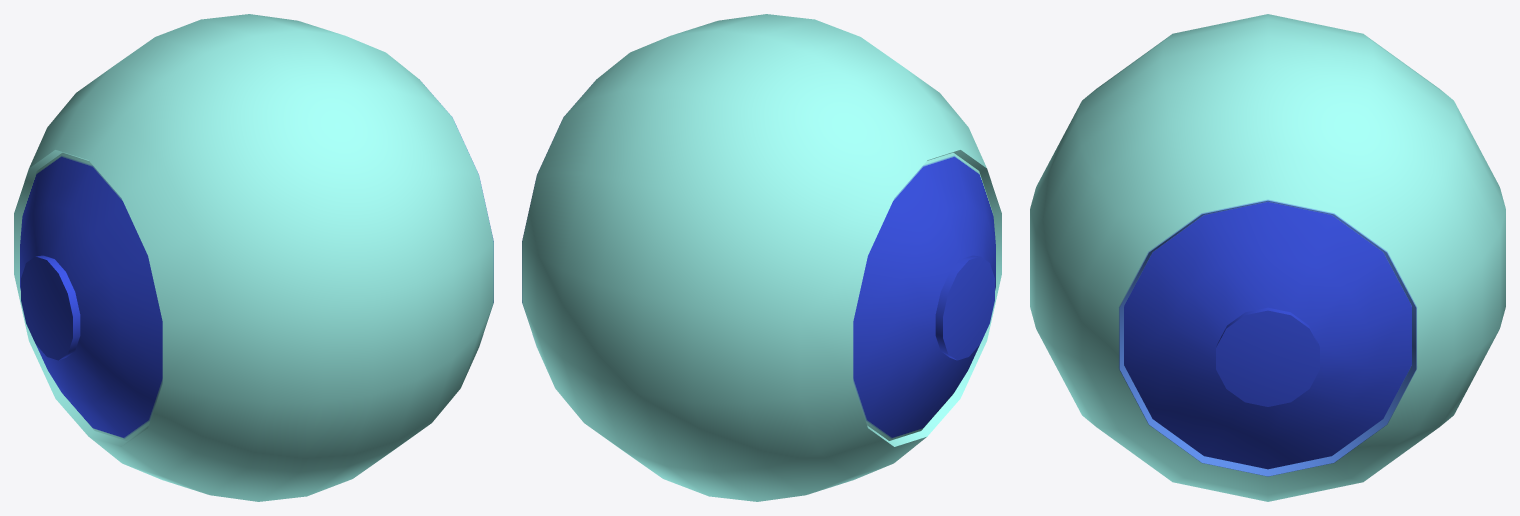
Rendered from Player_PowerUp_Player_Shield.fbx.
The picture shows the model from 3 angles, left to right: view 1: azimuth 30°, elevation 25°; view 2: azimuth 150°, elevation 25°; view 3: azimuth 270°, elevation 25°; orthographic projection.
Parts seen in each view (by area): view 1: polySurface1; view 2: polySurface1; view 3: polySurface1.
Part boxes in pixels (left/top/right/bottom): polySurface1: left=14, top=14, right=493, bottom=501; polySurface1: left=522, top=14, right=1001, bottom=501; polySurface1: left=1030, top=14, right=1505, bottom=501.
Bounding box in the file's own units: 6.52 × 6.5 × 6.34.
1 material, 1 textured.
